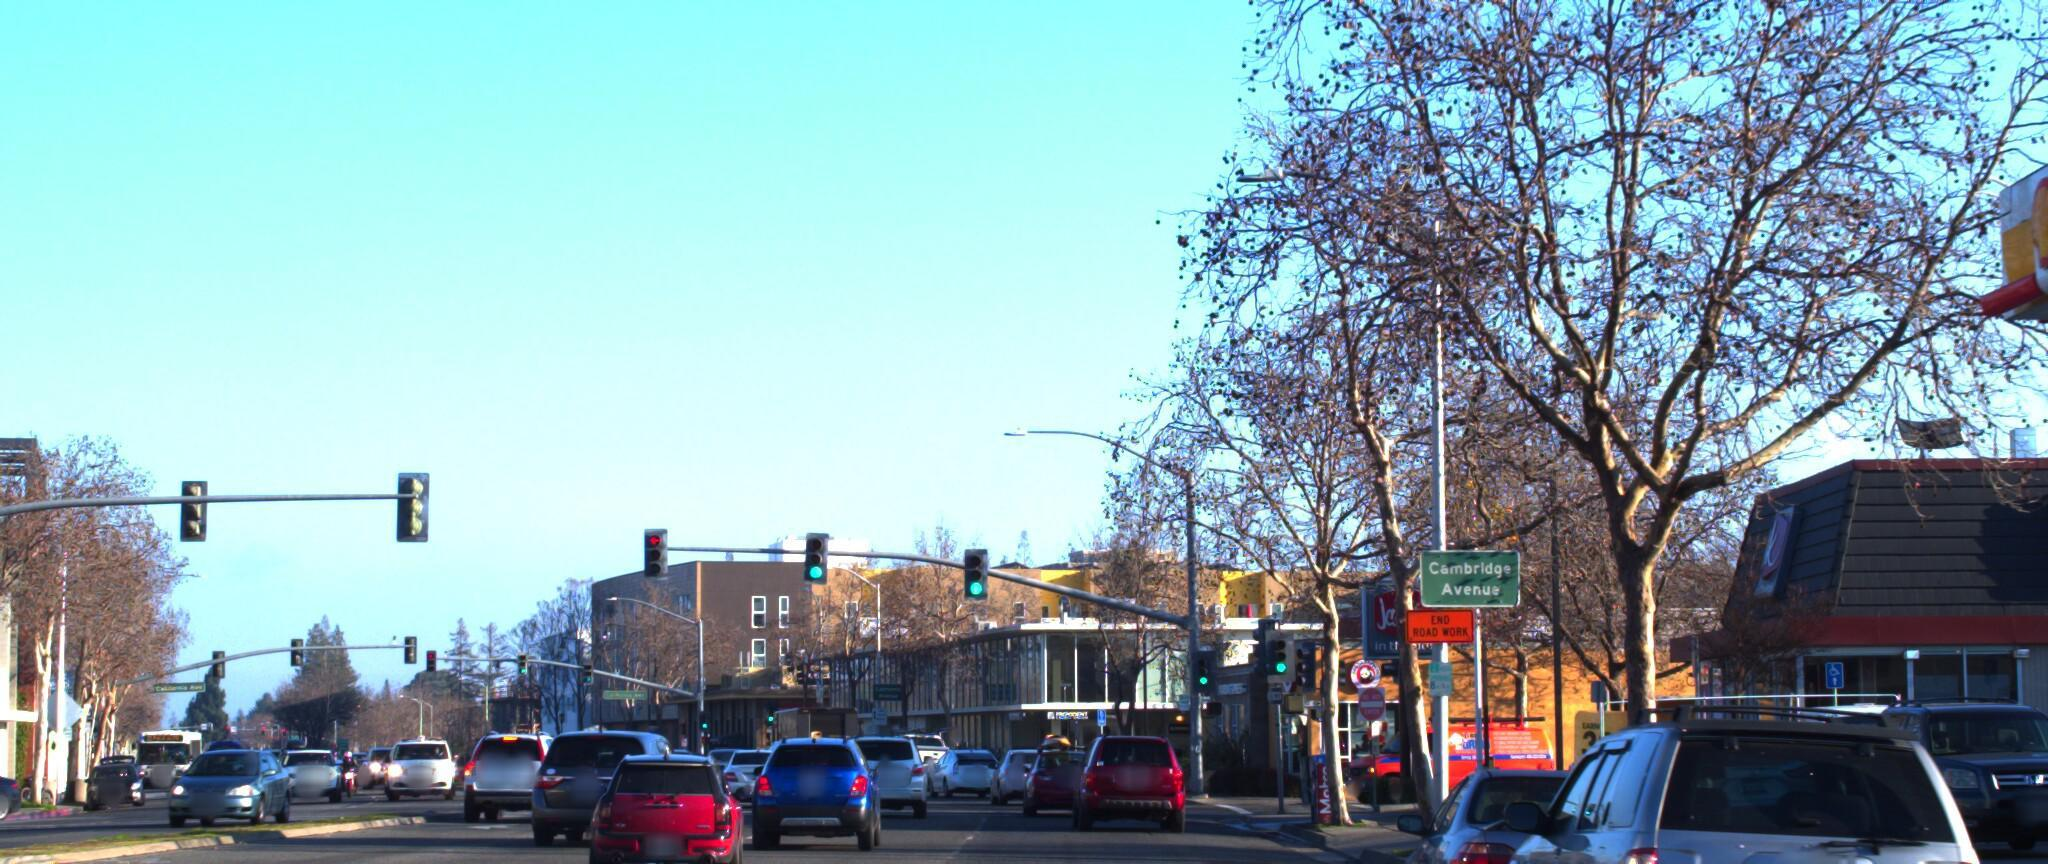car: (1448, 684, 2039, 864), (1366, 741, 1728, 864), (1821, 677, 2048, 848), (519, 700, 712, 839), (577, 724, 758, 864), (1318, 702, 1554, 791), (742, 719, 878, 835), (445, 707, 586, 812), (155, 724, 306, 812), (1058, 724, 1186, 818), (853, 728, 952, 824), (1007, 720, 1108, 810), (2000, 707, 2048, 864)
